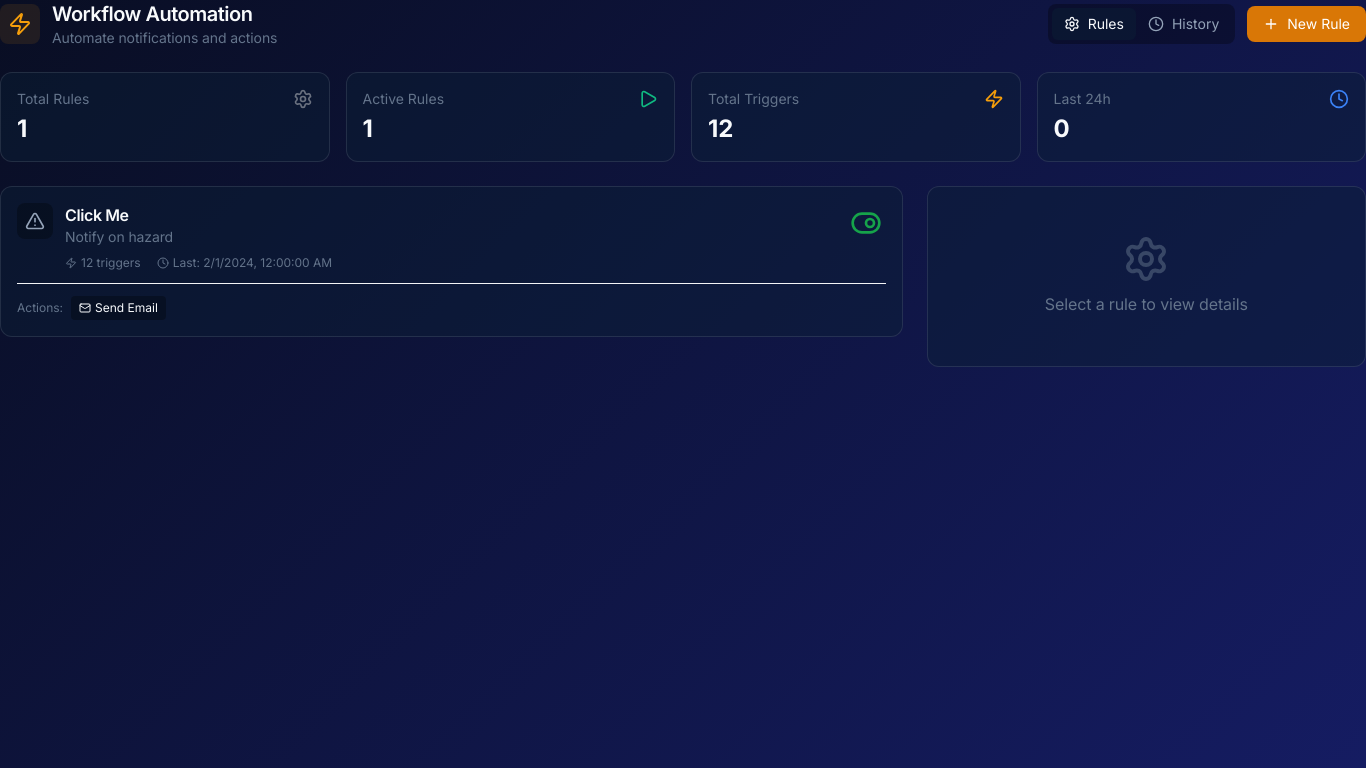
Test case: WorkflowAutomation › rule detail panel › shows Rule Details on rule click
This screenshot has width=1366, height=768.
Click the heading "Click Me": (97, 215) left=65, top=205, right=129, bottom=225
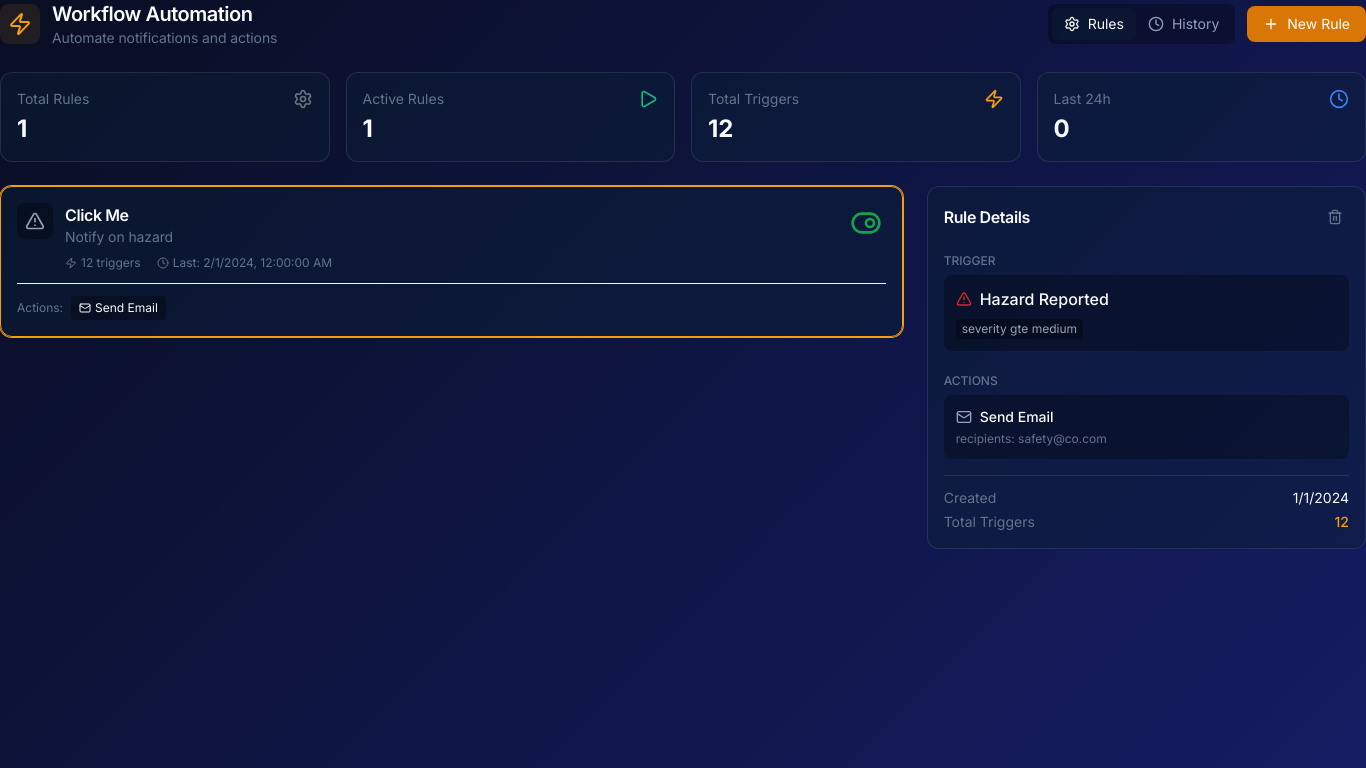
Now the heading "Rule Details" is shown, box left=944, top=205, right=1030, bottom=229
